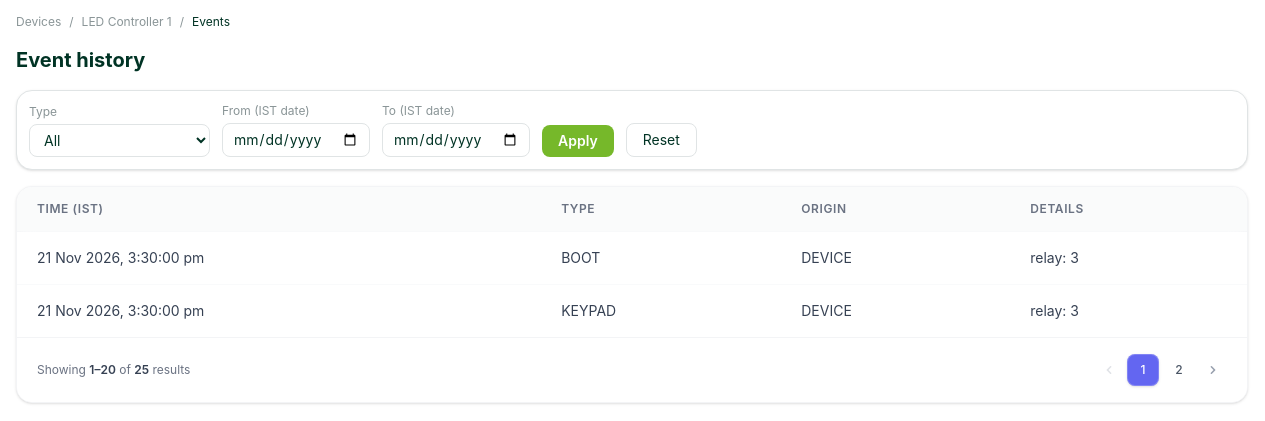
Scenario: DeviceEventsPage › paginates
Check: the text "BOOT" is shown, box [541, 232, 781, 284]
Click the button named "Next page" at (1213, 370), box [1199, 356, 1227, 384]
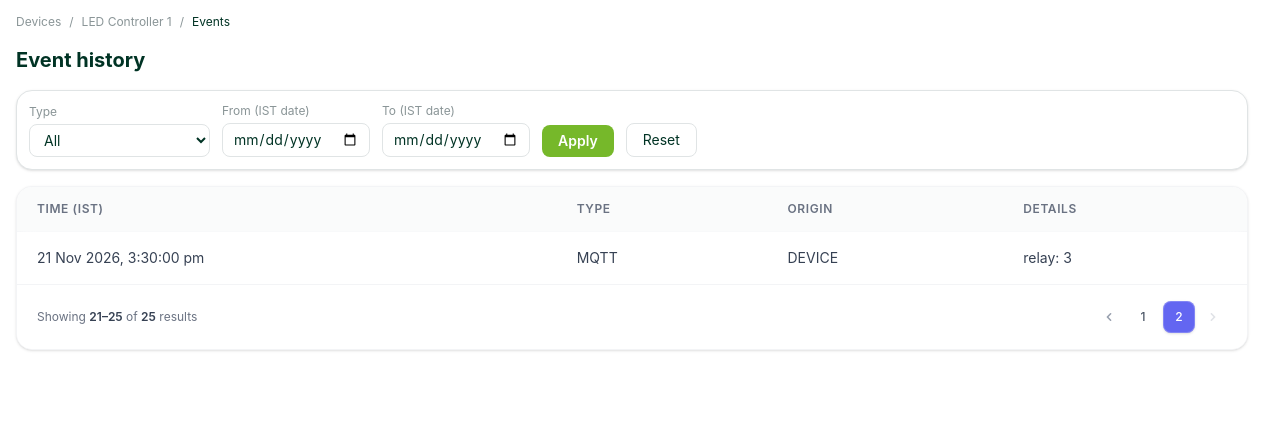
Check: the text "MQTT" is shown, box [557, 232, 768, 284]
